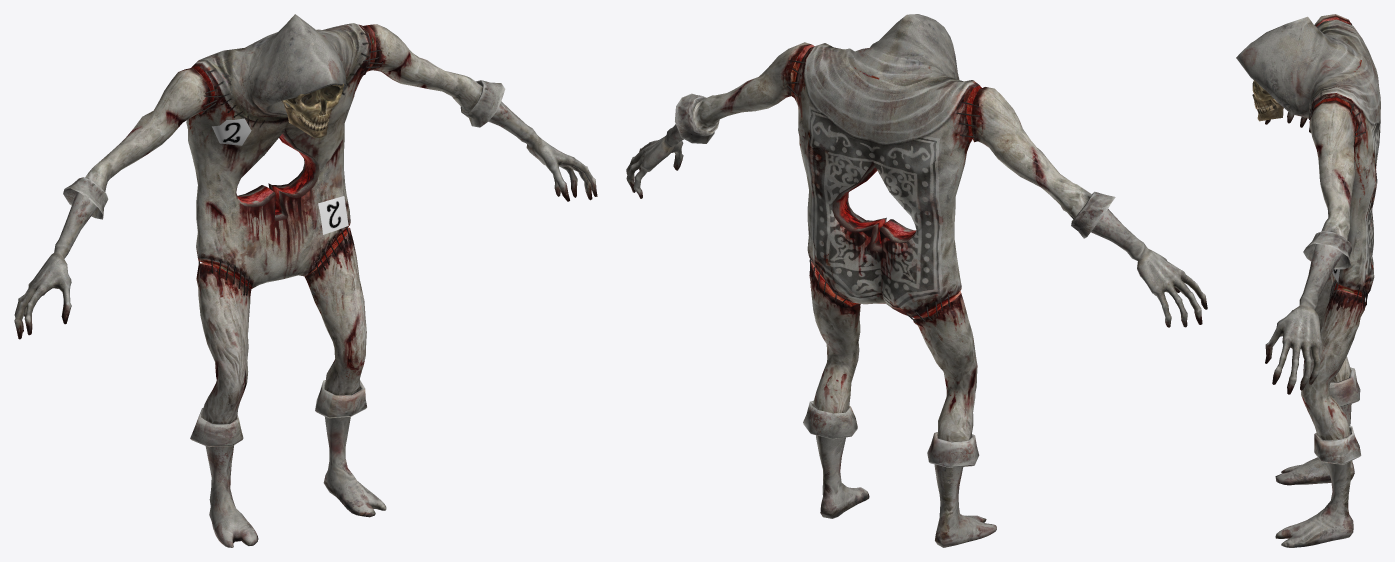
File: Card Guard Spade.obj
3 renders of one model, left to right at view 1: azimuth 30°, elevation 25°; view 2: azimuth 150°, elevation 25°; view 3: azimuth 270°, elevation 25°, orthographic. The views are drawn at different scales.
Visible parts, largest first — view 1: SK_CardGuard_Spade.001; view 2: SK_CardGuard_Spade.001; view 3: SK_CardGuard_Spade.001.
Boxes of the visible parts, box(x1,y1,x2,y2) form: SK_CardGuard_Spade.001: box(14, 14, 597, 547); SK_CardGuard_Spade.001: box(626, 14, 1207, 547); SK_CardGuard_Spade.001: box(1236, 14, 1380, 547).
Bounding box in the file's own units: 2.42 × 2.03 × 0.5399.
Materials: 3 (3 with a texture image).
